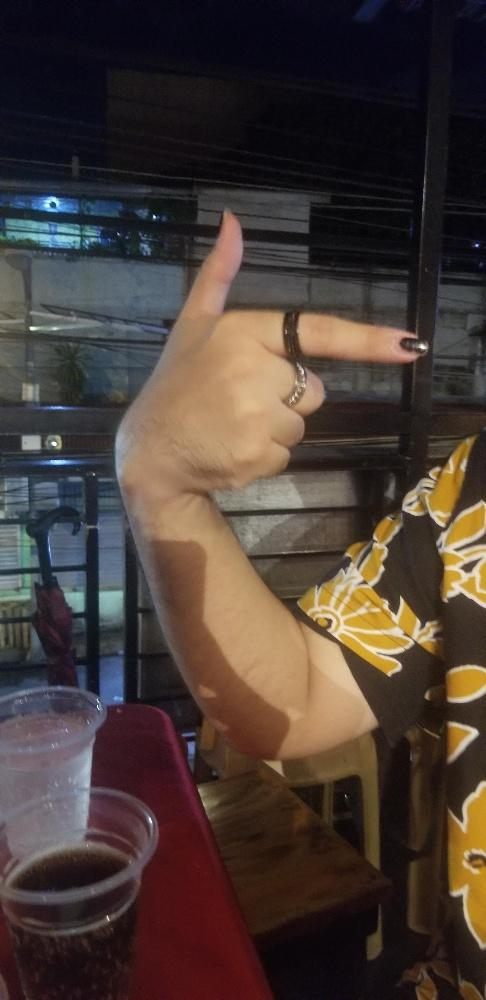g: (101, 210, 428, 498)
